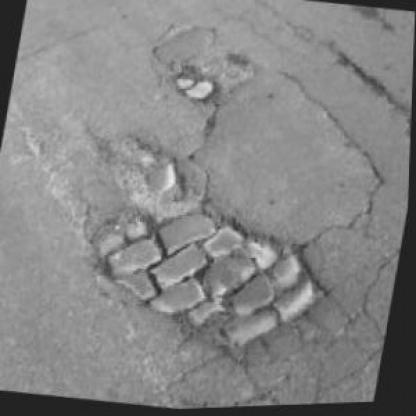pothole: (75, 188, 344, 376), (103, 128, 201, 219), (172, 64, 222, 107)
